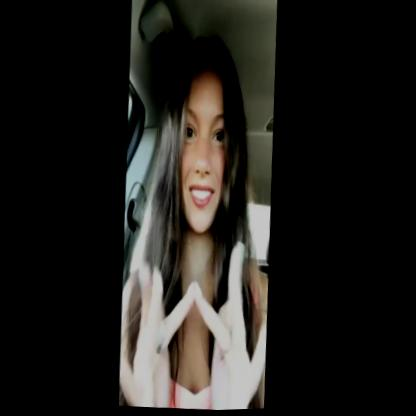Internet: (105, 229, 274, 414)
